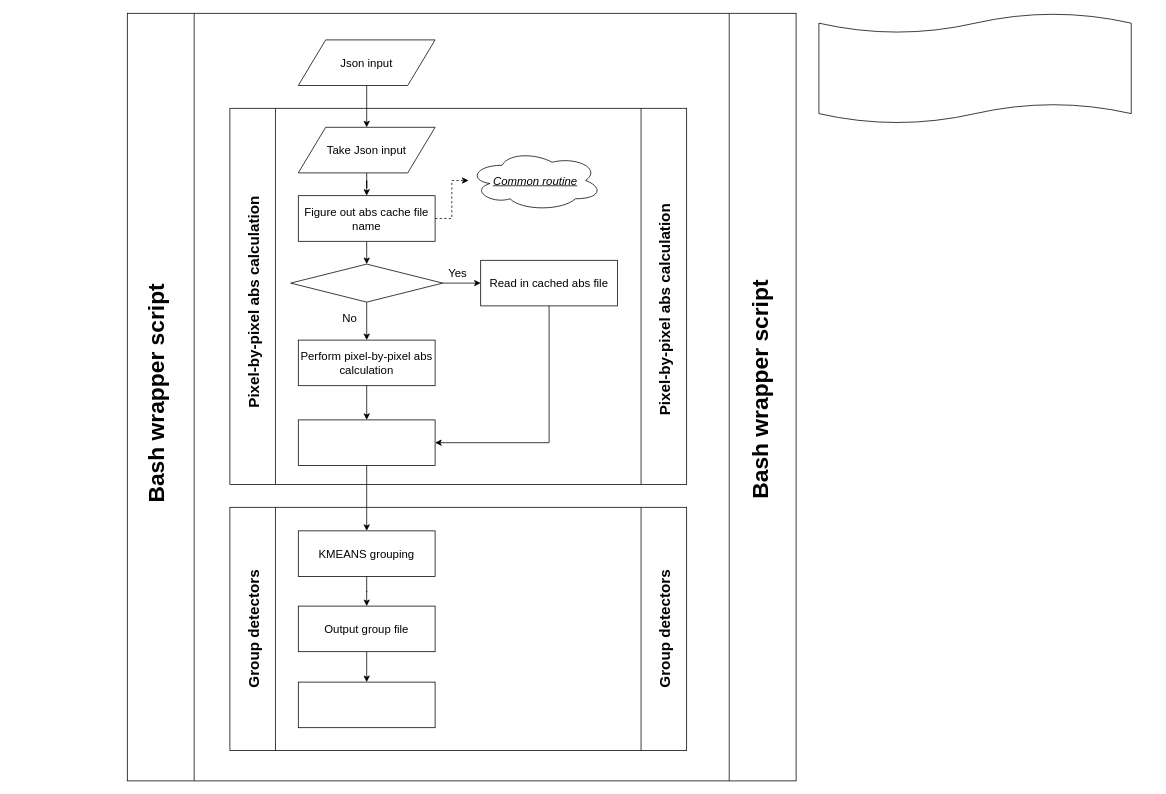
The diagram is 1166 pixels wide and 794 high, and some of its shapes have lost their labels. Each missing label, with the centre of its shape:
"Abs cache file exists" goes at (x=366, y=282).
"Cache directory, 'IPTS/sdhared/mantid/caching'" goes at (x=974, y=68).
"Output group focused abs calculation" goes at (x=366, y=704).
"Pixel-by-pixel absorption spectra" goes at (x=366, y=442).
